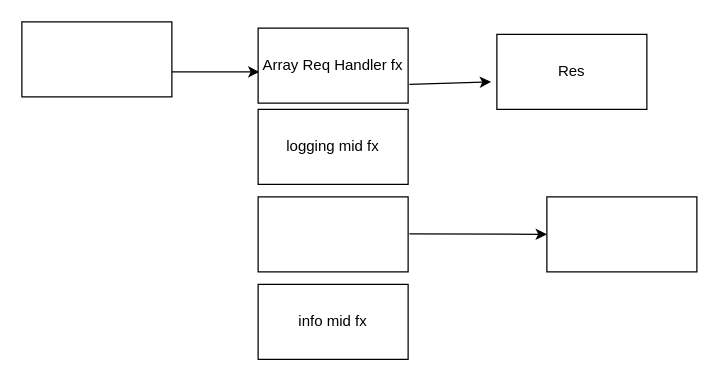
The diagram is 719 pixels wide and 381 high, and some of its shapes have lost their labels. Here are the shapes that lost their labels. From the top down, the box of each, then its label:
(21, 21, 172, 97): Req
(257, 196, 408, 272): auth mid fx
